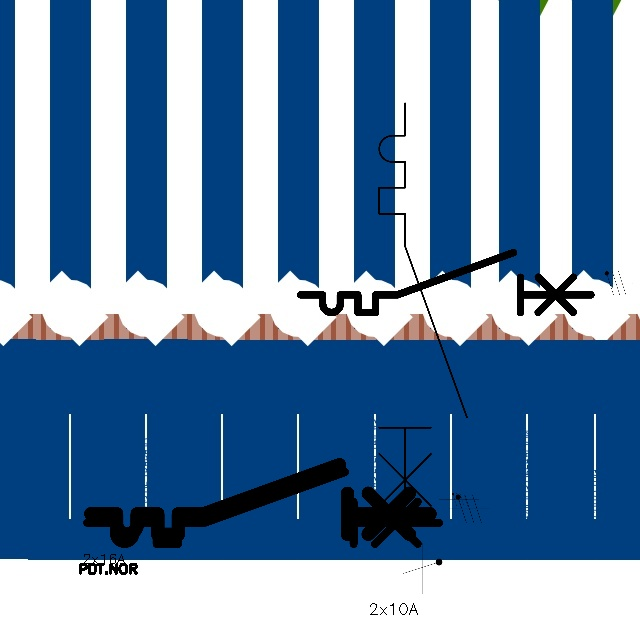interruptor_termomagnetico: (368, 92, 478, 543), (78, 463, 448, 553), (82, 456, 438, 543), (293, 245, 599, 320)
